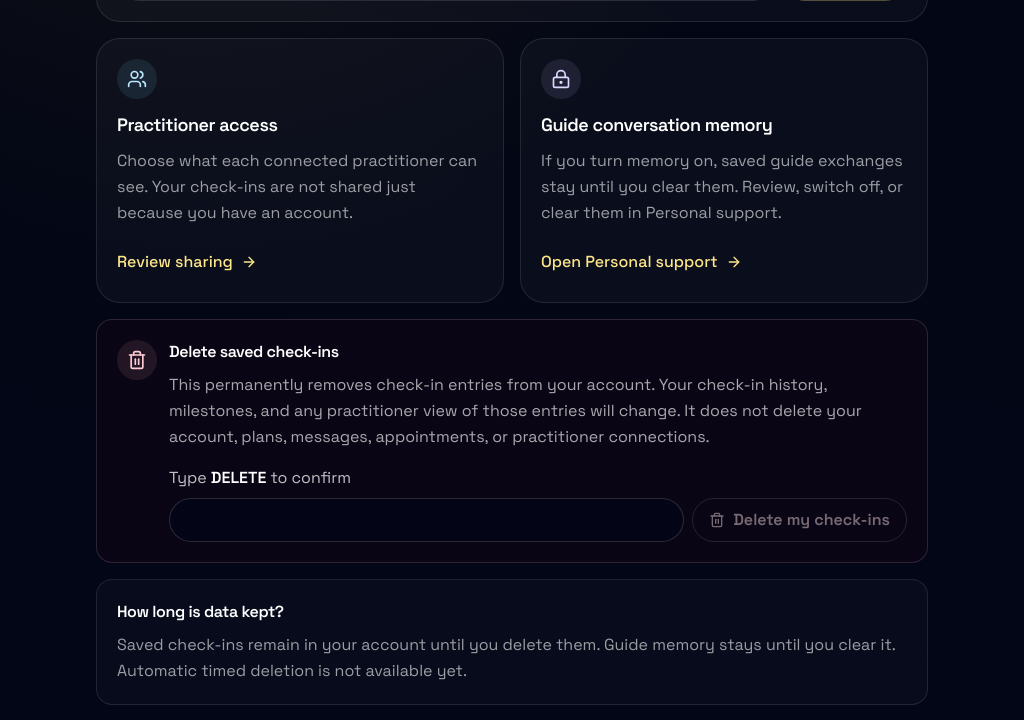
Test case: PrivacySettingsPage › continues bounded server batches until the account history is fully removed
(page scrolled)
Type "DELETE" into the field labelled "Type DELETE to confirm" at coordinates (427, 520), box x1=169 y1=498 x2=684 y2=542
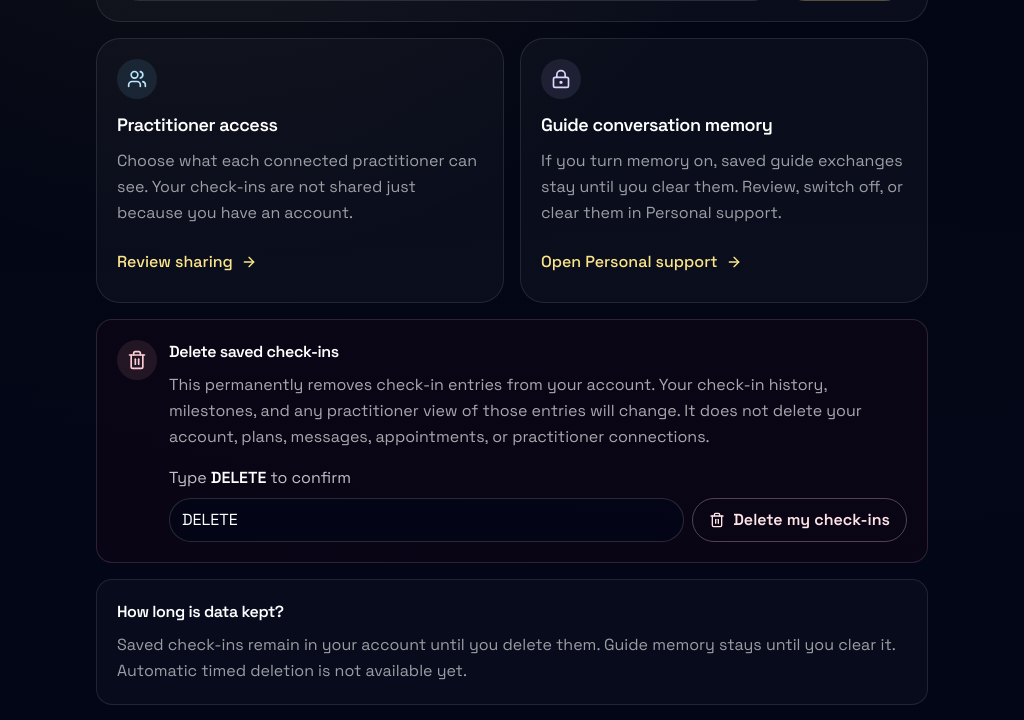
Click the button "Delete my check-ins" at coordinates (800, 520), box x1=692 y1=498 x2=907 y2=542
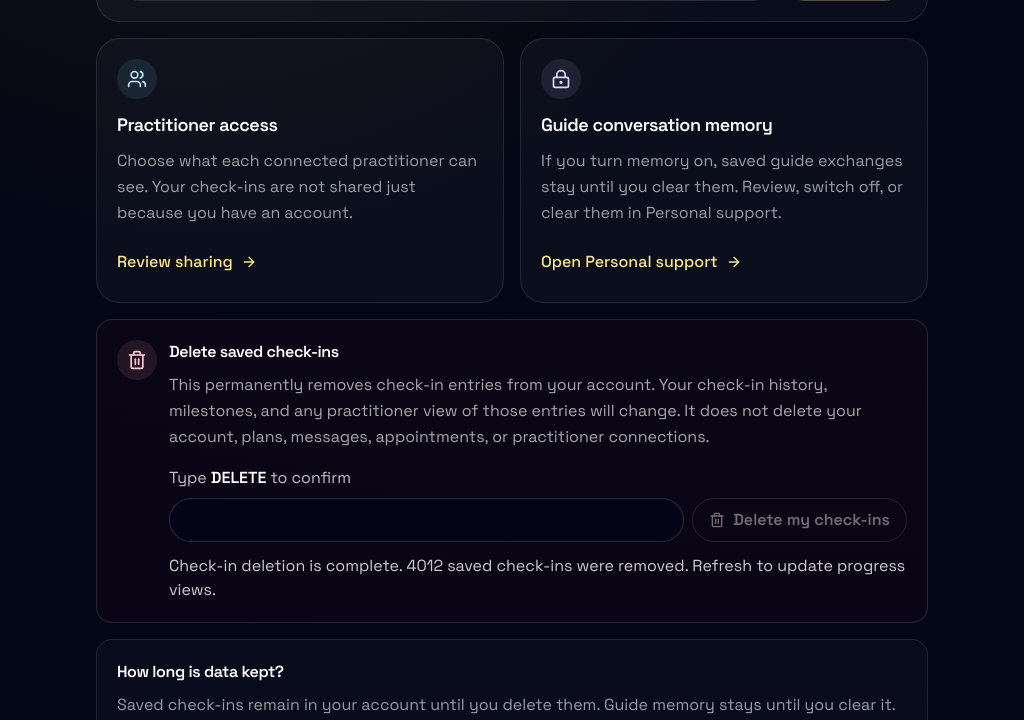
Now the message shows "4012 saved check-ins were removed", box x1=169 y1=555 x2=905 y2=600
